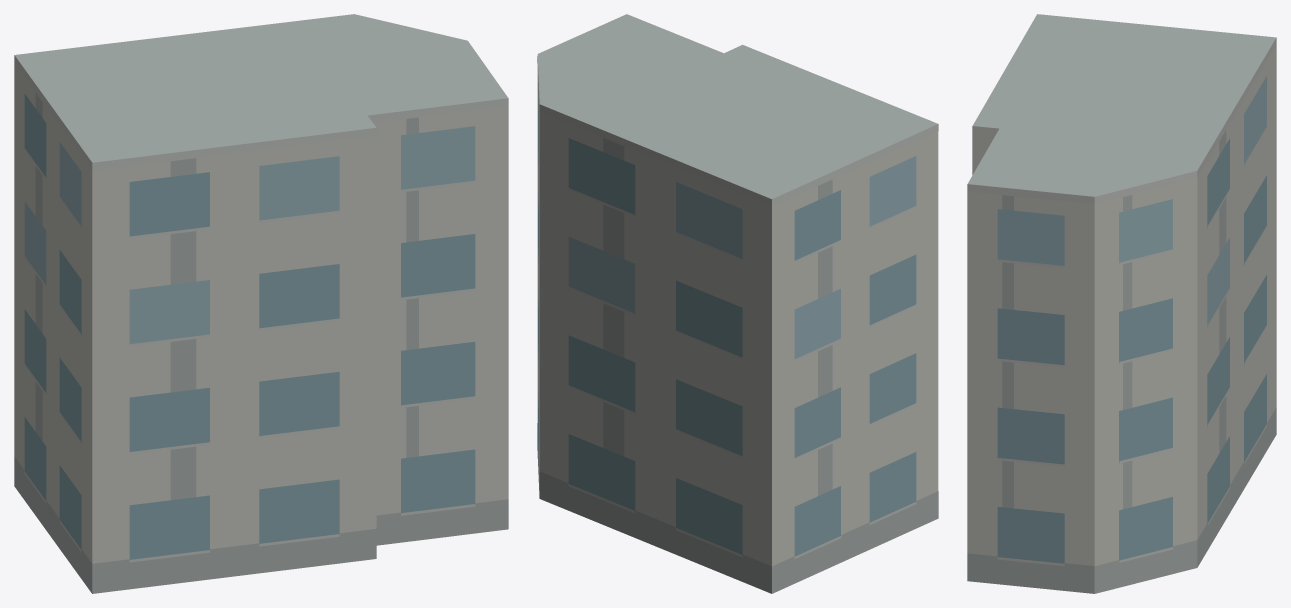
Rendered from residential-74d2e6f5-4d5c-4bcc-9ef9-2ef08dd55a64.glb.
3 renders of one model, left to right at view 1: azimuth 30°, elevation 25°; view 2: azimuth 150°, elevation 25°; view 3: azimuth 270°, elevation 25°, orthographic. The views are drawn at different scales.
Visible parts, largest first — view 1: residential-74d2e6f5-4d5c-4bcc-9ef9-2ef08dd55a64.tmp; view 2: residential-74d2e6f5-4d5c-4bcc-9ef9-2ef08dd55a64.tmp; view 3: residential-74d2e6f5-4d5c-4bcc-9ef9-2ef08dd55a64.tmp.
Boxes of the visible parts, box(x1,y1,x2,y2) form: residential-74d2e6f5-4d5c-4bcc-9ef9-2ef08dd55a64.tmp: box(14, 14, 508, 593); residential-74d2e6f5-4d5c-4bcc-9ef9-2ef08dd55a64.tmp: box(537, 14, 938, 593); residential-74d2e6f5-4d5c-4bcc-9ef9-2ef08dd55a64.tmp: box(967, 14, 1276, 593).
Bounding box in the file's own units: 12.65 × 12.8 × 9.04.
